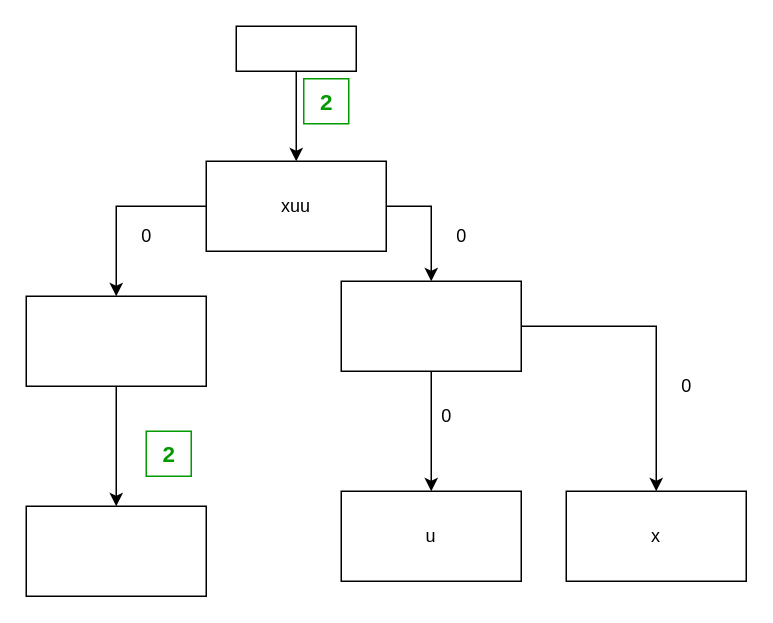
The diagram is 773 pixels wide and 623 high, and some of its shapes have lost their labels. The centre of each missing label's shape, as x and y in pixels:
lxuul: (x=295, y=48)
uu: (x=115, y=340)
xu: (x=430, y=325)
